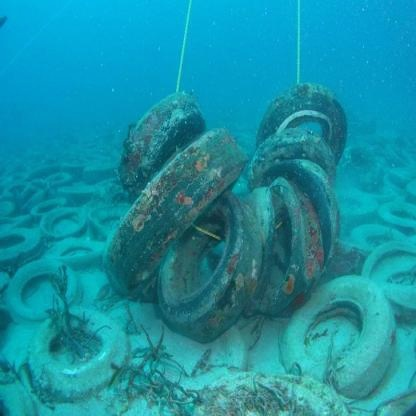net: (170, 0, 198, 94), (292, 1, 309, 84)
tire: (101, 125, 246, 296), (142, 177, 258, 349), (277, 276, 397, 394), (238, 167, 317, 328), (246, 134, 343, 252), (19, 309, 142, 392), (256, 81, 354, 163), (112, 95, 212, 162), (2, 259, 91, 321), (357, 233, 416, 316), (329, 184, 380, 219), (51, 236, 114, 264), (340, 221, 399, 250), (375, 196, 416, 236), (1, 225, 37, 261), (42, 208, 80, 240), (32, 201, 75, 222), (40, 168, 80, 186), (3, 180, 38, 196)
